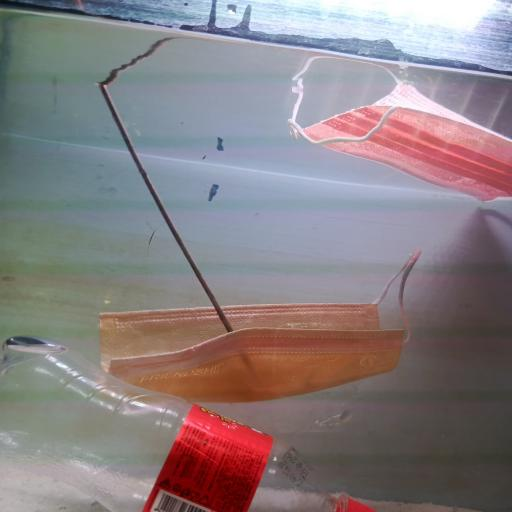bottle_cap: (334, 483, 381, 512)
mask: (95, 296, 419, 406), (291, 78, 512, 204)
plastic_bottle: (0, 334, 384, 512)
